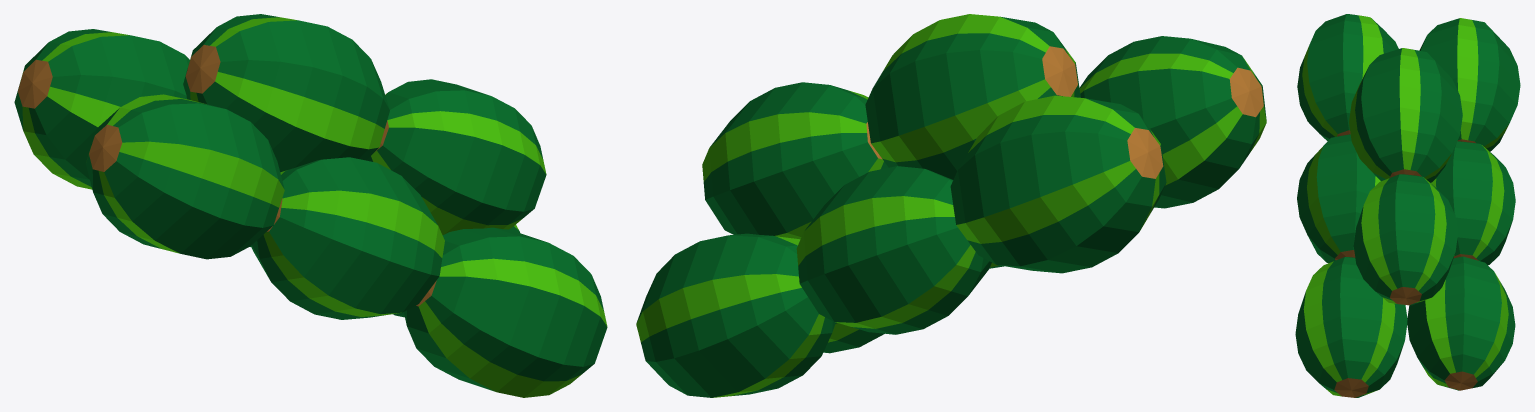
Rendered from Obstregal_Melonen.fbx.
3 renders of one model, left to right at view 1: azimuth 30°, elevation 25°; view 2: azimuth 150°, elevation 25°; view 3: azimuth 270°, elevation 25°, orthographic. The views are drawn at different scales.
Parts seen in each view (by area): view 1: Watermelon; view 2: Watermelon; view 3: Watermelon.
Boxes of the visible parts, x1=… form: Watermelon: x1=14, y1=14, x2=607, y2=397; Watermelon: x1=636, y1=14, x2=1266, y2=397; Watermelon: x1=1295, y1=14, x2=1520, y2=397.
Size of the model in its own units: 64.32 by 48.15 by 37.18.
